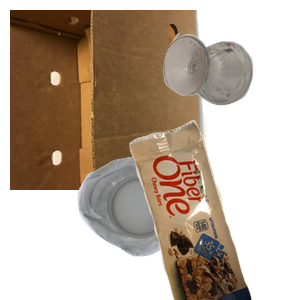cardboard: (10, 10, 211, 190)
glass: (161, 30, 300, 128)
plastic: (75, 154, 248, 300)
trash: (127, 120, 300, 300)
